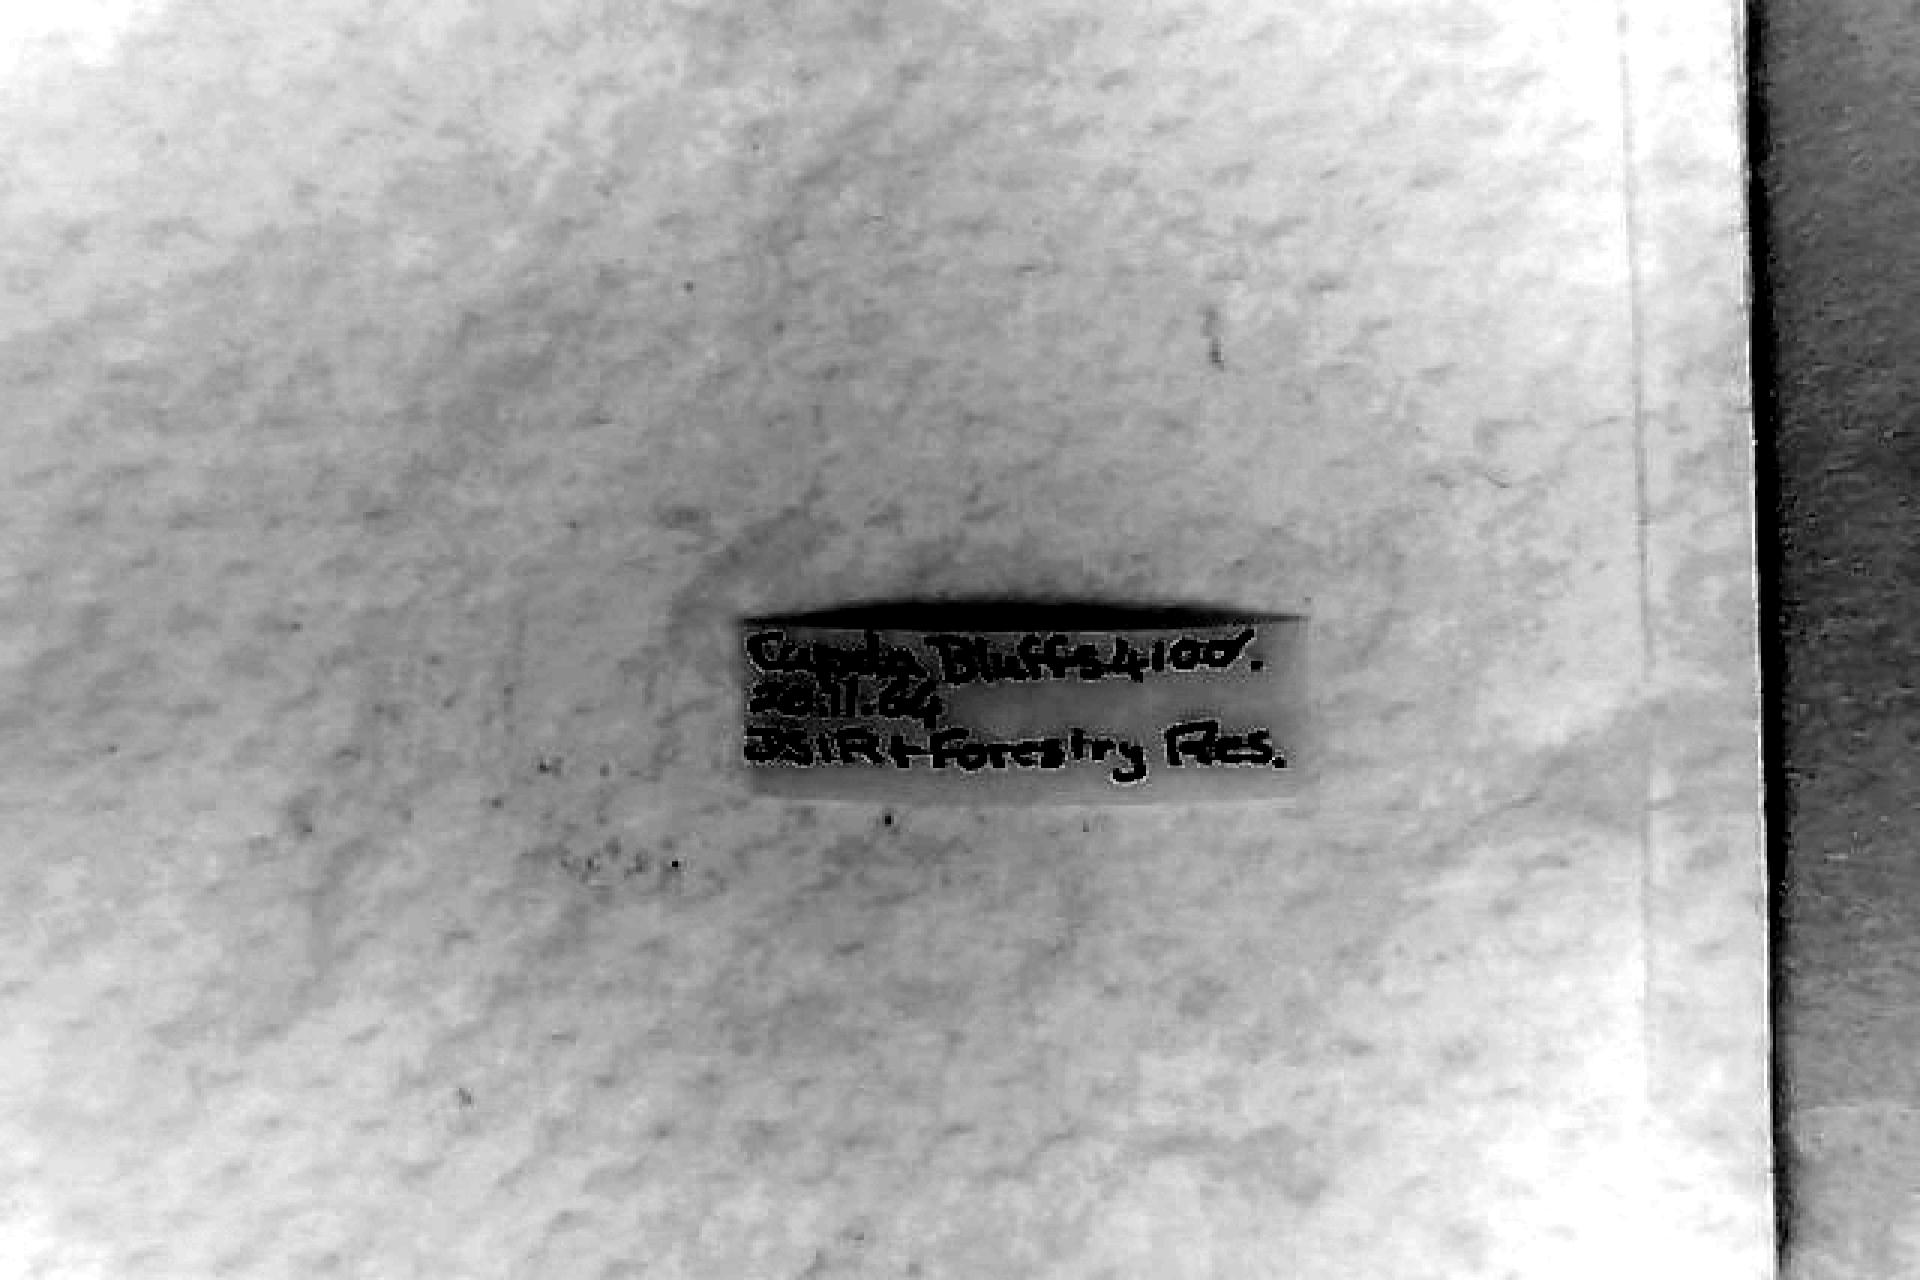hand_label: (742, 620, 1296, 795)
